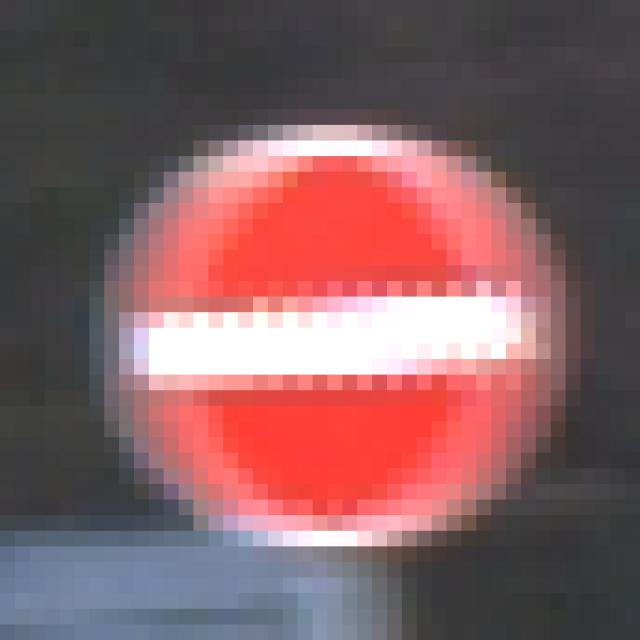No Entry: (76, 95, 567, 563)
